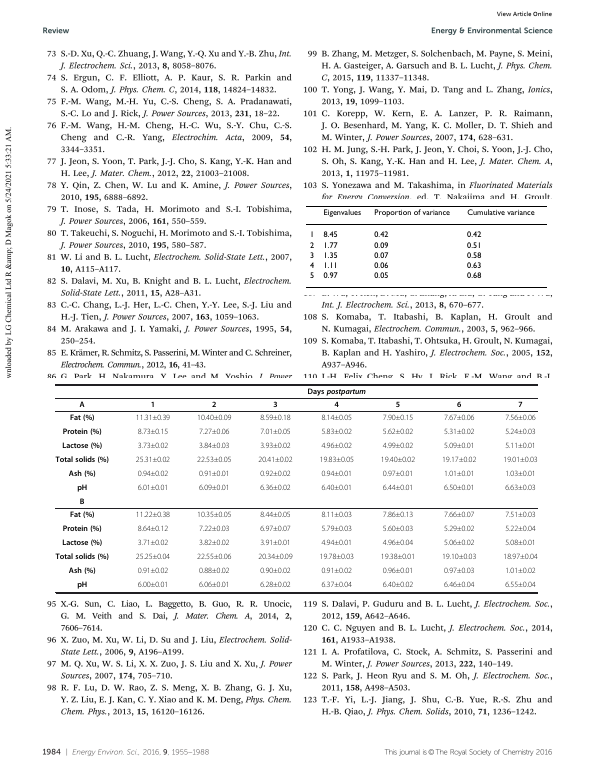borderless: (55, 383, 537, 592), (305, 204, 547, 288)
cell: (373, 208, 450, 218), (466, 208, 535, 218), (55, 455, 110, 465), (55, 552, 110, 562), (307, 387, 367, 396), (61, 441, 103, 451), (61, 538, 103, 548), (322, 208, 362, 218), (62, 427, 102, 437), (62, 524, 102, 534), (68, 469, 96, 479), (68, 566, 96, 576), (69, 413, 95, 423), (69, 510, 95, 520), (135, 414, 171, 421), (196, 414, 232, 421), (135, 456, 171, 463), (196, 456, 232, 463), (257, 456, 293, 463), (319, 456, 355, 463), (380, 456, 416, 463), (441, 456, 477, 463), (502, 456, 538, 463), (135, 511, 171, 518), (196, 511, 232, 518), (135, 553, 171, 560), (196, 553, 232, 560), (257, 553, 293, 560), (319, 553, 355, 560), (380, 553, 416, 560), (441, 553, 477, 560), (502, 553, 538, 560), (259, 414, 292, 421), (320, 414, 353, 421), (504, 414, 537, 421), (259, 428, 292, 435), (320, 428, 353, 435), (504, 428, 537, 435), (259, 442, 292, 449), (320, 442, 353, 449), (504, 442, 537, 449), (259, 470, 292, 477), (320, 470, 353, 477), (504, 470, 537, 477), (259, 484, 292, 491), (320, 484, 353, 491), (504, 484, 537, 491), (259, 511, 292, 518), (320, 511, 353, 518), (504, 511, 537, 518), (259, 525, 292, 532), (320, 525, 353, 532), (504, 525, 537, 532), (259, 539, 292, 546), (320, 539, 353, 546), (504, 539, 537, 546), (259, 567, 292, 574), (320, 567, 353, 574), (504, 567, 537, 574), (259, 581, 292, 588), (320, 581, 353, 588), (504, 581, 537, 588), (382, 414, 414, 421), (443, 414, 475, 421), (137, 428, 169, 435), (198, 428, 230, 435), (382, 428, 414, 435), (443, 428, 475, 435), (137, 442, 169, 449), (198, 442, 230, 449), (382, 442, 414, 449), (443, 442, 475, 449), (137, 470, 169, 477), (198, 470, 230, 477), (382, 470, 414, 477), (443, 470, 475, 477), (137, 484, 169, 491), (198, 484, 230, 491), (382, 484, 414, 491), (443, 484, 475, 491), (382, 511, 414, 518), (443, 511, 475, 518), (137, 525, 169, 532), (198, 525, 230, 532), (382, 525, 414, 532), (443, 525, 475, 532), (137, 539, 169, 546), (198, 539, 230, 546), (382, 539, 414, 546), (443, 539, 475, 546), (137, 567, 169, 574), (198, 567, 230, 574), (382, 567, 414, 574), (443, 567, 475, 574), (137, 581, 169, 588), (198, 581, 230, 588), (382, 581, 414, 588), (443, 581, 475, 588), (322, 241, 338, 251), (373, 241, 389, 251), (466, 241, 482, 251), (322, 251, 338, 261), (373, 251, 389, 261), (466, 251, 482, 261), (322, 261, 338, 271), (373, 261, 389, 271), (466, 261, 482, 271), (322, 231, 338, 240), (373, 231, 389, 240), (466, 231, 482, 240), (322, 272, 338, 281), (373, 272, 389, 281), (466, 272, 482, 281), (76, 483, 88, 493), (76, 580, 88, 590), (308, 241, 315, 251), (308, 251, 315, 261), (308, 261, 315, 271), (79, 400, 86, 410), (333, 400, 340, 410), (308, 231, 315, 240), (308, 272, 315, 281), (150, 400, 156, 410), (211, 400, 217, 410), (272, 400, 278, 410), (395, 400, 401, 410), (456, 400, 462, 410), (517, 400, 523, 410), (79, 497, 85, 507)
